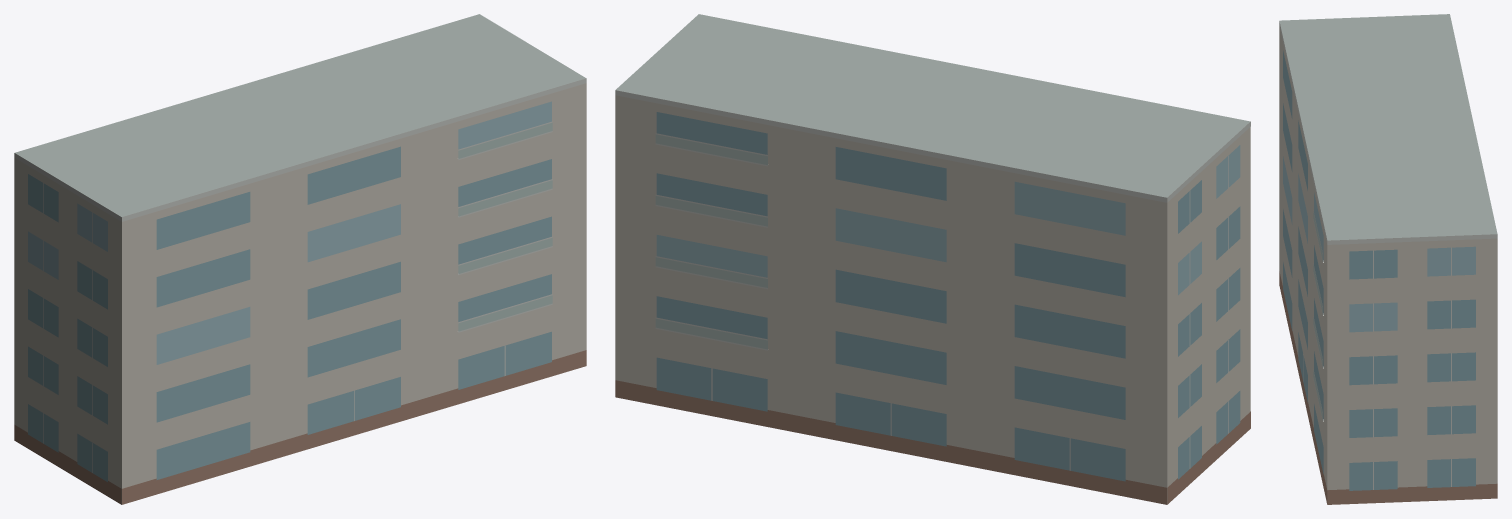
The model's file is survey-upis-32715152.glb.
3 views of the same model, side by side, from view 1: azimuth 30°, elevation 25°; view 2: azimuth 150°, elevation 25°; view 3: azimuth 270°, elevation 25° (orthographic). The views are drawn at different scales.
Visible parts, largest first — view 1: survey-upis-32715152.tmp; view 2: survey-upis-32715152.tmp; view 3: survey-upis-32715152.tmp.
Boxes of the visible parts, x1,y1,x2,y2 form: survey-upis-32715152.tmp: [14, 14, 586, 504]; survey-upis-32715152.tmp: [615, 14, 1250, 504]; survey-upis-32715152.tmp: [1279, 14, 1497, 504].
Size of the model in its own units: 27.13 by 14.75 by 11.05.
